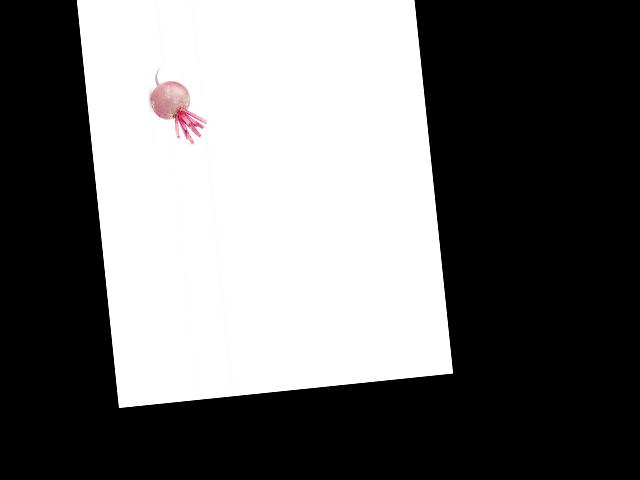beet: (147, 63, 208, 148)
